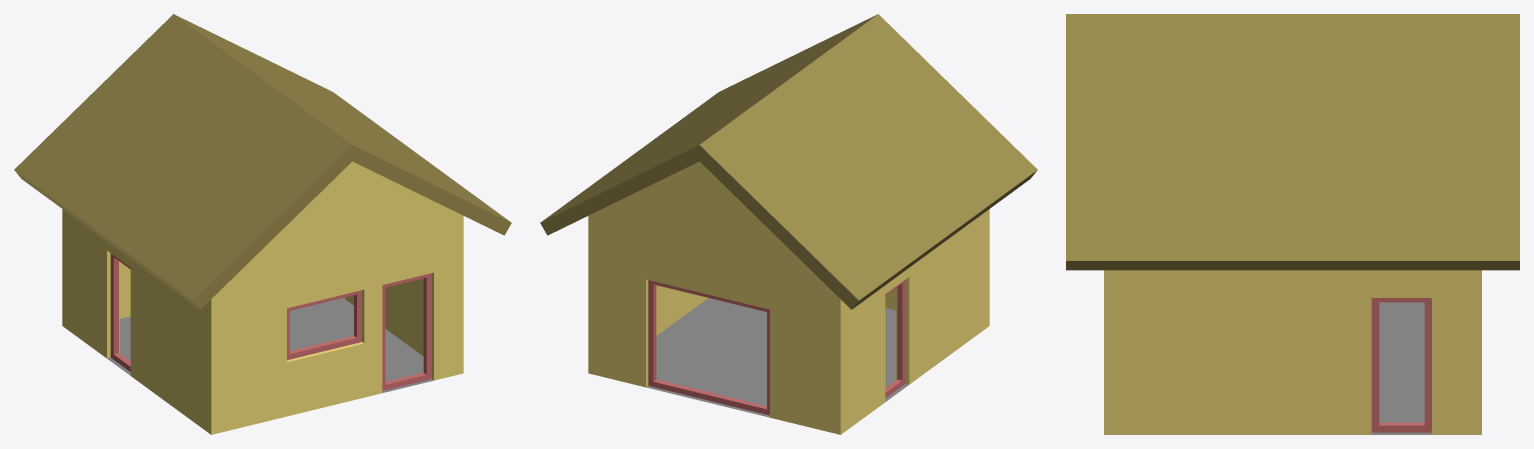
File: result.glb
3 renders of one model, left to right at view 1: azimuth 30°, elevation 25°; view 2: azimuth 150°, elevation 25°; view 3: azimuth 270°, elevation 25°, orthographic. The views are drawn at different scales.
Parts seen in each view (by area): view 1: 9c027e56-ea69-491f-991f-a5a011caa27d__undefined (×2), b4350815-6609-40a2-9681-9cd2359063e4__undefined, 225eb695-5b35-4d7e-9ff5-8a7f43ce4dc5__Plane_6, 7d52e0d4-2ab6-4653-965c-56f704881769__Box, c5726ab8-5168-4d86-8dc6-97b4b22ded44__Box_3, 7edbea9d-dcd9-46c0-bc39-95abb69d012c__Box_12; view 2: 9c027e56-ea69-491f-991f-a5a011caa27d__undefined (×2), b4350815-6609-40a2-9681-9cd2359063e4__undefined, 225eb695-5b35-4d7e-9ff5-8a7f43ce4dc5__Plane_6, 5788fa57-1827-41b5-bf9b-7b6c95f0878b__Box_9, 7edbea9d-dcd9-46c0-bc39-95abb69d012c__Box_12; view 3: 9c027e56-ea69-491f-991f-a5a011caa27d__undefined, b4350815-6609-40a2-9681-9cd2359063e4__undefined, 225eb695-5b35-4d7e-9ff5-8a7f43ce4dc5__Plane_6, a25a3ed4-5069-4636-b484-a419191c1143__Box_15.
Boxes of the visible parts, <box> form: 9c027e56-ea69-491f-991f-a5a011caa27d__undefined (×2): <box>14,14,511,309</box>; b4350815-6609-40a2-9681-9cd2359063e4__undefined: <box>62,161,463,434</box>; 225eb695-5b35-4d7e-9ff5-8a7f43ce4dc5__Plane_6: <box>107,297,433,392</box>; 7d52e0d4-2ab6-4653-965c-56f704881769__Box: <box>382,273,431,390</box>; c5726ab8-5168-4d86-8dc6-97b4b22ded44__Box_3: <box>287,290,361,360</box>; 7edbea9d-dcd9-46c0-bc39-95abb69d012c__Box_12: <box>110,253,130,371</box>; 9c027e56-ea69-491f-991f-a5a011caa27d__undefined (×2): <box>540,14,1037,309</box>; b4350815-6609-40a2-9681-9cd2359063e4__undefined: <box>588,161,989,434</box>; 225eb695-5b35-4d7e-9ff5-8a7f43ce4dc5__Plane_6: <box>646,298,908,417</box>; 5788fa57-1827-41b5-bf9b-7b6c95f0878b__Box_9: <box>648,280,769,415</box>; 7edbea9d-dcd9-46c0-bc39-95abb69d012c__Box_12: <box>885,280,905,398</box>; 9c027e56-ea69-491f-991f-a5a011caa27d__undefined: <box>1066,14,1519,270</box>; b4350815-6609-40a2-9681-9cd2359063e4__undefined: <box>1104,270,1481,434</box>; 225eb695-5b35-4d7e-9ff5-8a7f43ce4dc5__Plane_6: <box>1371,302,1431,434</box>; a25a3ed4-5069-4636-b484-a419191c1143__Box_15: <box>1371,298,1431,432</box>.
Size of the model in its own units: 618 by 500 by 600.
